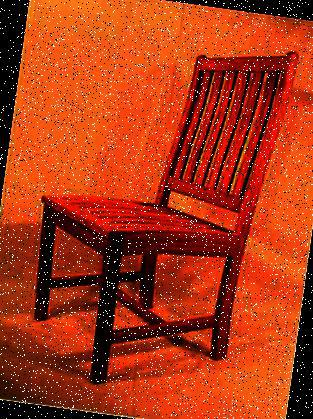Silla: (21, 19, 298, 404)
